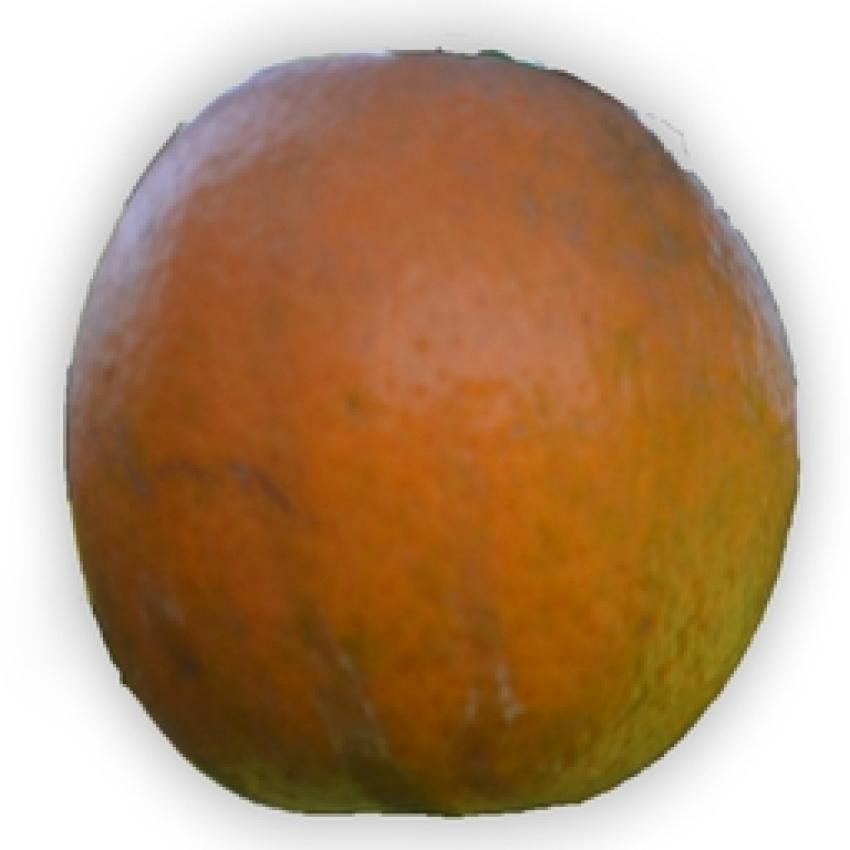Mal estado: (45, 19, 822, 824)
